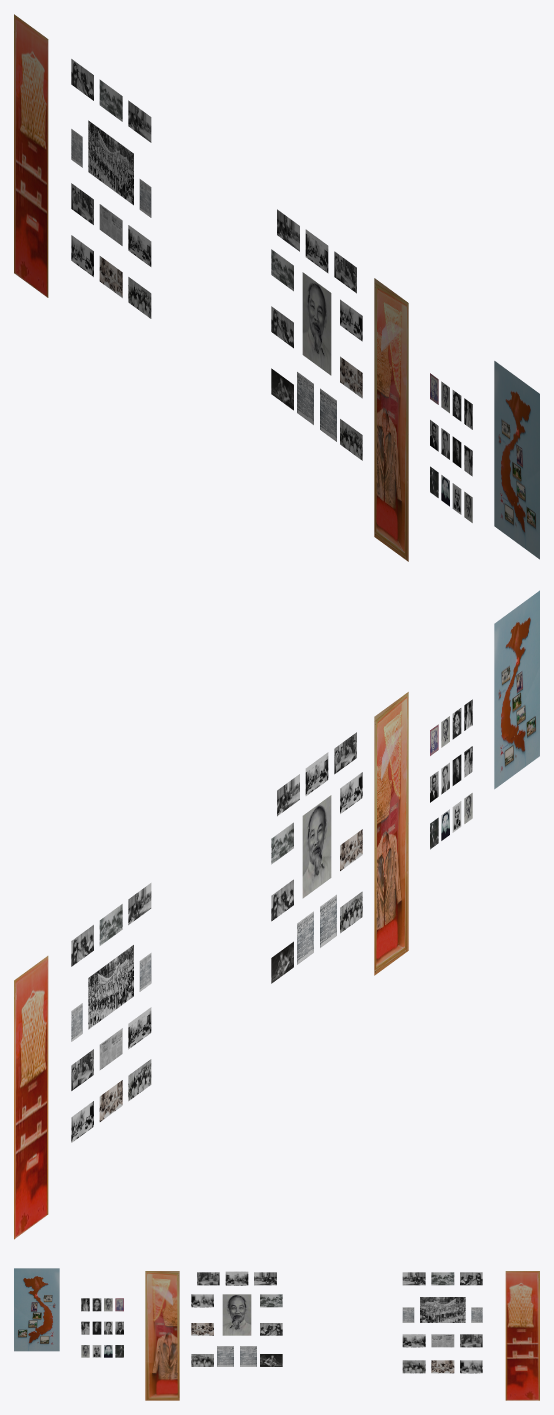
File: Bac_Ho_voi_mien_Nam_AB.glb
3 views of the same model, one above another, from view 1: azimuth 30°, elevation 25°; view 2: azimuth 150°, elevation 25°; view 3: azimuth 270°, elevation 25° (orthographic). The views are drawn at different scales.
Parts seen in each view (by area): view 1: Plane.008, Plane.001, Plane.006, Plane.029, Plane.025, Plane.010, Plane.002, Plane.037; view 2: Plane.008, Plane.001, Plane.006, Plane.029, Plane.025; view 3: Plane.008, Plane.001, Plane.006, Plane.029, Plane.025, Plane.037, Plane.010, Plane.002, Plane.004, Plane.027, Plane.028, Plane.032 (+15 smaller).
Part boxes in pixels (<box>): Plane.008: <box>14,14,48,297</box>; Plane.001: <box>374,278,408,561</box>; Plane.006: <box>494,361,539,559</box>; Plane.029: <box>302,272,331,375</box>; Plane.025: <box>88,120,133,205</box>; Plane.010: <box>320,388,336,441</box>; Plane.002: <box>297,372,313,424</box>; Plane.037: <box>305,229,328,273</box>; Plane.008: <box>14,956,48,1239</box>; Plane.001: <box>374,692,408,975</box>; Plane.006: <box>494,590,539,789</box>; Plane.029: <box>302,795,331,898</box>; Plane.025: <box>88,945,133,1029</box>; Plane.008: <box>505,1271,539,1400</box>; Plane.001: <box>145,1271,179,1400</box>; Plane.006: <box>14,1268,59,1351</box>; Plane.029: <box>222,1294,251,1335</box>; Plane.025: <box>420,1297,465,1322</box>; Plane.037: <box>225,1271,248,1285</box>; Plane.010: <box>217,1346,233,1366</box>; Plane.002: <box>240,1346,256,1366</box>; Plane.004: <box>402,1334,425,1347</box>; Plane.027: <box>402,1272,425,1285</box>; Plane.028: <box>431,1272,454,1285</box>; Plane.032: <box>431,1334,454,1347</box>.
Bounding box in the file's own units: 0 × 2.55 × 9.2.
39 materials, 39 textured.
